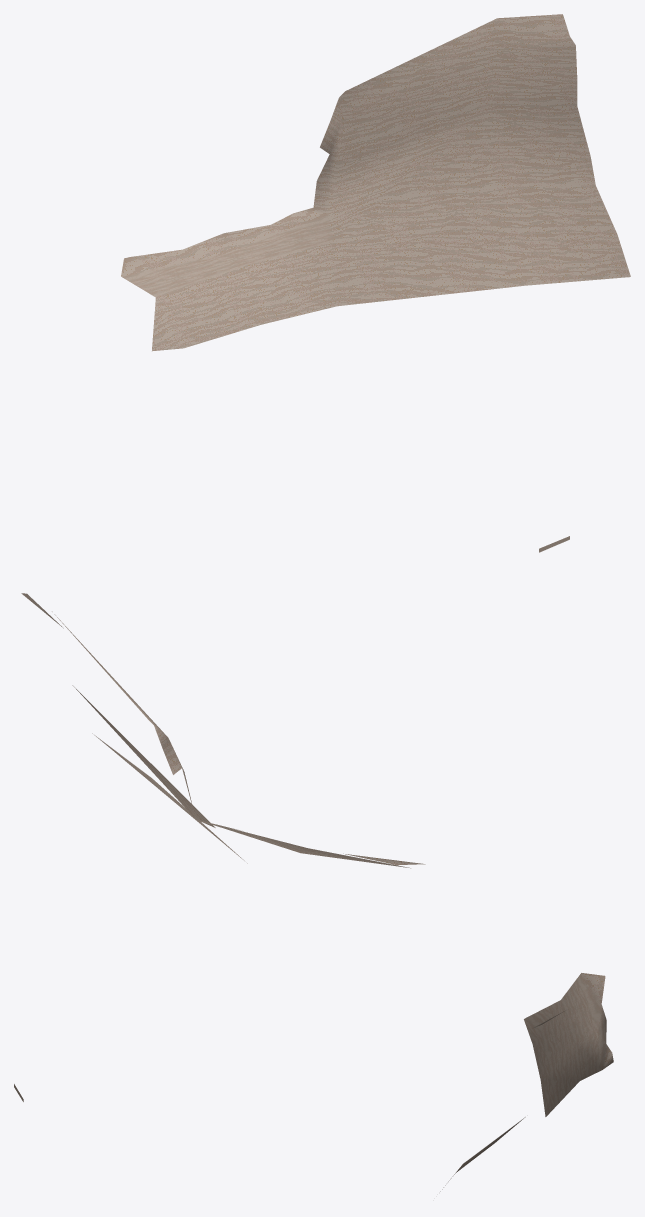
Rendered from kd_stage_13612f_0_11_bounded.glb.
3 renders of one model, top to bottom at view 1: azimuth 30°, elevation 25°; view 2: azimuth 150°, elevation 25°; view 3: azimuth 270°, elevation 25°, orthographic. The views are drawn at different scales.
Visible parts, largest first — view 1: kd_stage_13612f_0_11_bounded; view 2: kd_stage_13612f_0_11_bounded; view 3: kd_stage_13612f_0_11_bounded.
Part boxes in pixels (<box>): kd_stage_13612f_0_11_bounded: <box>121,14,630,552</box>; kd_stage_13612f_0_11_bounded: <box>21,593,425,868</box>; kd_stage_13612f_0_11_bounded: <box>14,973,613,1191</box>.
Size of the model in its own units: 117 by 51.58 by 131.
1 material, 1 textured.
